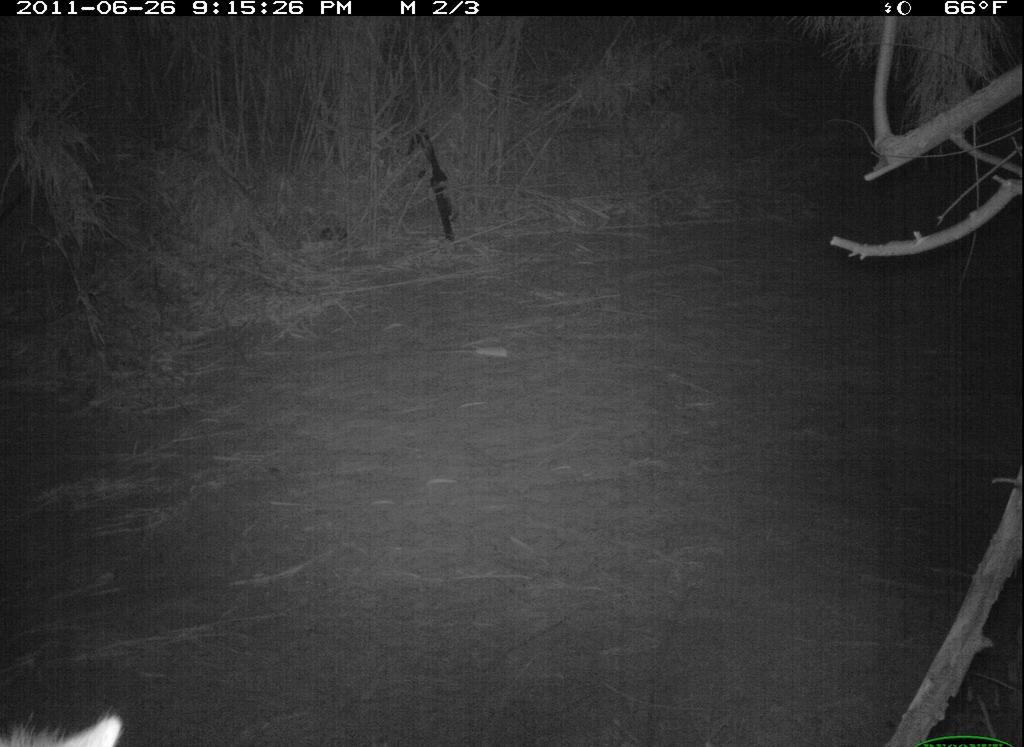raccoon: (3, 674, 140, 747)
